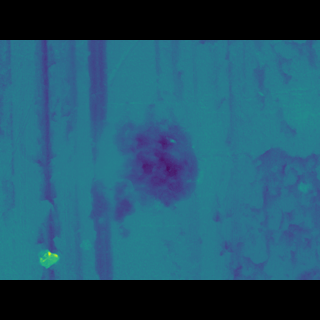Loch: (60, 98, 319, 228)
